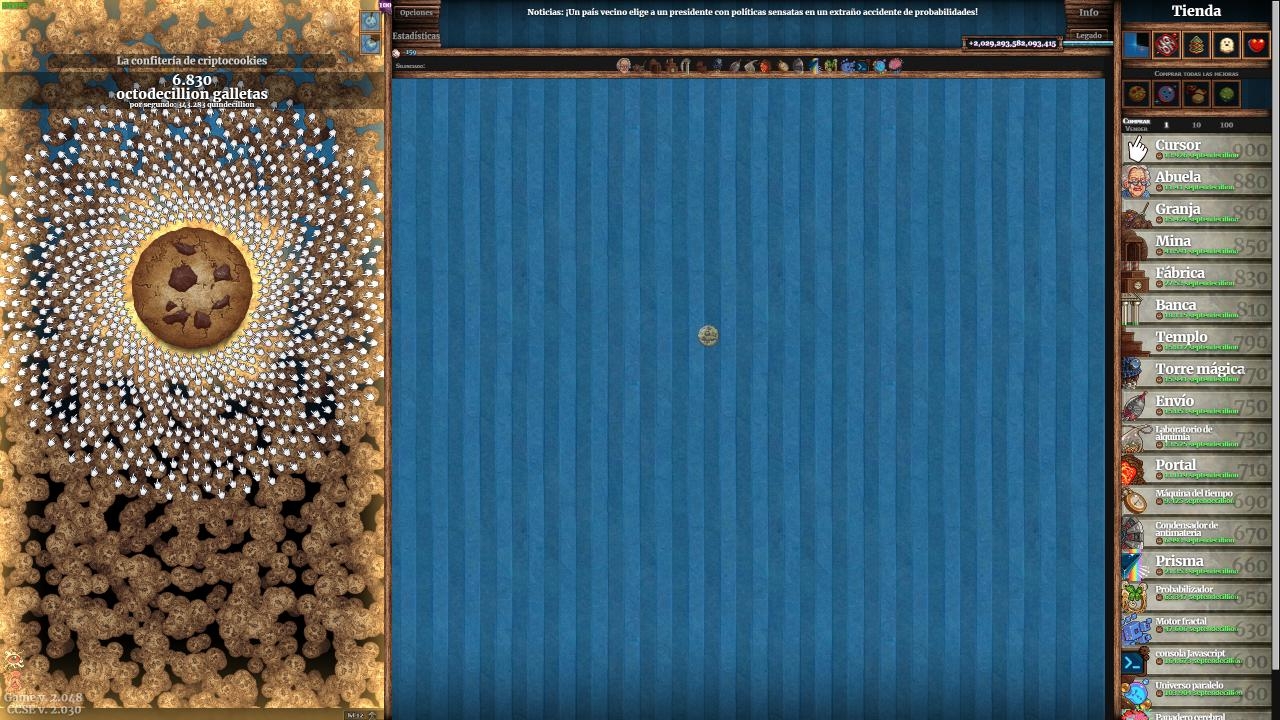GoldenCookie: (697, 324, 721, 348)
